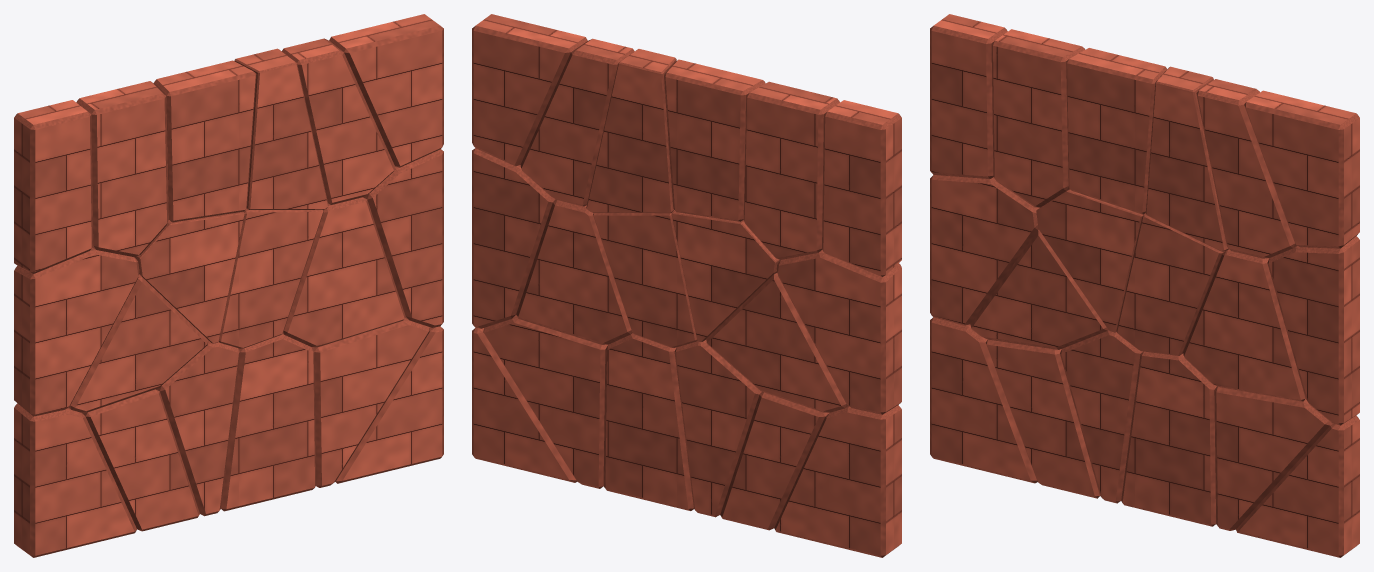
Rendered from Kit_Brick_Wall_Fractured.glb.
3 views of the same model, side by side, from view 1: azimuth 30°, elevation 25°; view 2: azimuth 150°, elevation 25°; view 3: azimuth 330°, elevation 25° (orthographic).
Parts seen in each view (by area): view 1: Kit_Brick_Wall_frag_02, Kit_Brick_Wall_frag_01, Kit_Brick_Wall_frag_10, Kit_Brick_Wall_frag_09, Kit_Brick_Wall_frag_06, Kit_Brick_Wall_frag_03, Kit_Brick_Wall_frag_14, Kit_Brick_Wall_frag_18, Kit_Brick_Wall_frag_13, Kit_Brick_Wall_frag_15, Kit_Brick_Wall_frag_12, Kit_Brick_Wall_frag_04 (+6 smaller); view 2: Kit_Brick_Wall_frag_01, Kit_Brick_Wall_frag_02, Kit_Brick_Wall_frag_06, Kit_Brick_Wall_frag_10, Kit_Brick_Wall_frag_03, Kit_Brick_Wall_frag_09, Kit_Brick_Wall_frag_13, Kit_Brick_Wall_frag_18, Kit_Brick_Wall_frag_12, Kit_Brick_Wall_frag_14, Kit_Brick_Wall_frag_17, Kit_Brick_Wall_frag_15 (+6 smaller); view 3: Kit_Brick_Wall_frag_10, Kit_Brick_Wall_frag_18, Kit_Brick_Wall_frag_09, Kit_Brick_Wall_frag_17, Kit_Brick_Wall_frag_06, Kit_Brick_Wall_frag_02, Kit_Brick_Wall_frag_14, Kit_Brick_Wall_frag_01, Kit_Brick_Wall_frag_13, Kit_Brick_Wall_frag_16, Kit_Brick_Wall_frag_03, Kit_Brick_Wall_frag_15 (+6 smaller).
Boxes of the visible parts, x1=… form: Kit_Brick_Wall_frag_02: x1=14, y1=247, x2=139, y2=416; Kit_Brick_Wall_frag_01: x1=14, y1=403, x2=136, y2=557; Kit_Brick_Wall_frag_10: x1=221, y1=333, x2=315, y2=511; Kit_Brick_Wall_frag_09: x1=153, y1=60, x2=256, y2=222; Kit_Brick_Wall_frag_06: x1=76, y1=81, x2=168, y2=257; Kit_Brick_Wall_frag_03: x1=14, y1=100, x2=93, y2=273; Kit_Brick_Wall_frag_14: x1=283, y1=197, x2=405, y2=347; Kit_Brick_Wall_frag_18: x1=329, y1=14, x2=443, y2=167; Kit_Brick_Wall_frag_13: x1=311, y1=318, x2=429, y2=487; Kit_Brick_Wall_frag_15: x1=281, y1=38, x2=394, y2=204; Kit_Brick_Wall_frag_12: x1=234, y1=48, x2=328, y2=209; Kit_Brick_Wall_frag_04: x1=82, y1=389, x2=199, y2=531; Kit_Brick_Wall_frag_01: x1=774, y1=405, x2=901, y2=557; Kit_Brick_Wall_frag_02: x1=776, y1=249, x2=901, y2=414; Kit_Brick_Wall_frag_06: x1=743, y1=81, x2=839, y2=259; Kit_Brick_Wall_frag_10: x1=603, y1=333, x2=693, y2=510; Kit_Brick_Wall_frag_03: x1=822, y1=100, x2=901, y2=276; Kit_Brick_Wall_frag_09: x1=664, y1=59, x2=765, y2=221; Kit_Brick_Wall_frag_13: x1=483, y1=315, x2=607, y2=488; Kit_Brick_Wall_frag_18: x1=472, y1=14, x2=587, y2=166; Kit_Brick_Wall_frag_12: x1=586, y1=49, x2=676, y2=213; Kit_Brick_Wall_frag_14: x1=516, y1=199, x2=632, y2=344; Kit_Brick_Wall_frag_17: x1=472, y1=148, x2=555, y2=328; Kit_Brick_Wall_frag_15: x1=520, y1=38, x2=634, y2=206; Kit_Brick_Wall_frag_10: x1=1121, y1=351, x2=1216, y2=526; Kit_Brick_Wall_frag_18: x1=1244, y1=90, x2=1359, y2=248; Kit_Brick_Wall_frag_09: x1=1066, y1=48, x2=1167, y2=214; Kit_Brick_Wall_frag_17: x1=1267, y1=236, x2=1359, y2=425; Kit_Brick_Wall_frag_06: x1=991, y1=29, x2=1085, y2=207; Kit_Brick_Wall_frag_02: x1=930, y1=175, x2=1039, y2=325; Kit_Brick_Wall_frag_14: x1=1183, y1=249, x2=1305, y2=401; Kit_Brick_Wall_frag_01: x1=930, y1=317, x2=1037, y2=483; Kit_Brick_Wall_frag_13: x1=1214, y1=386, x2=1333, y2=530; Kit_Brick_Wall_frag_16: x1=1236, y1=415, x2=1359, y2=557; Kit_Brick_Wall_frag_03: x1=930, y1=14, x2=1007, y2=178; Kit_Brick_Wall_frag_15: x1=1196, y1=79, x2=1296, y2=258.
Size of what is drawn, in the model's own units: 3 by 3 by 0.25.
Materials: 2 (2 with a texture image).
